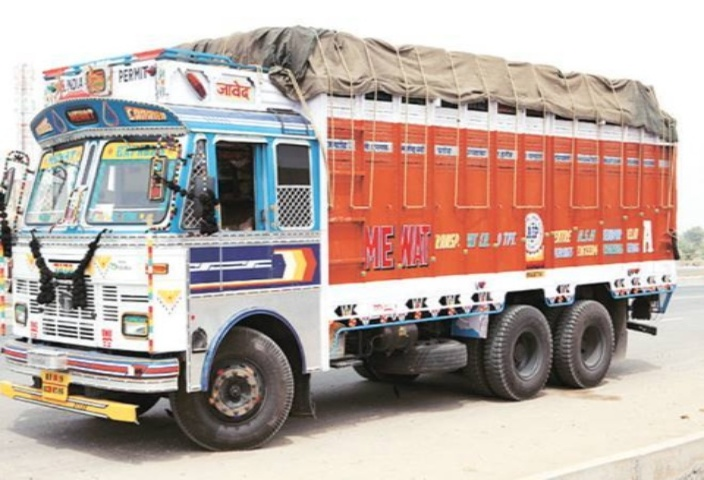truck: (20, 31, 689, 441)
